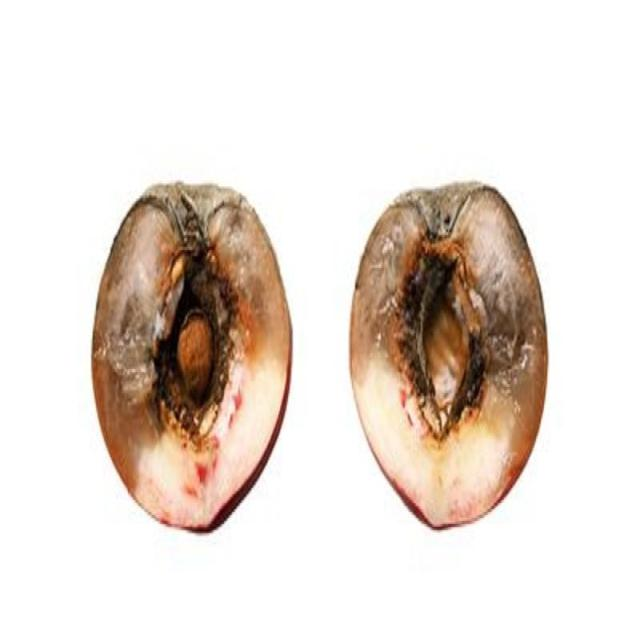organic: (90, 182, 293, 536), (349, 182, 549, 533)
